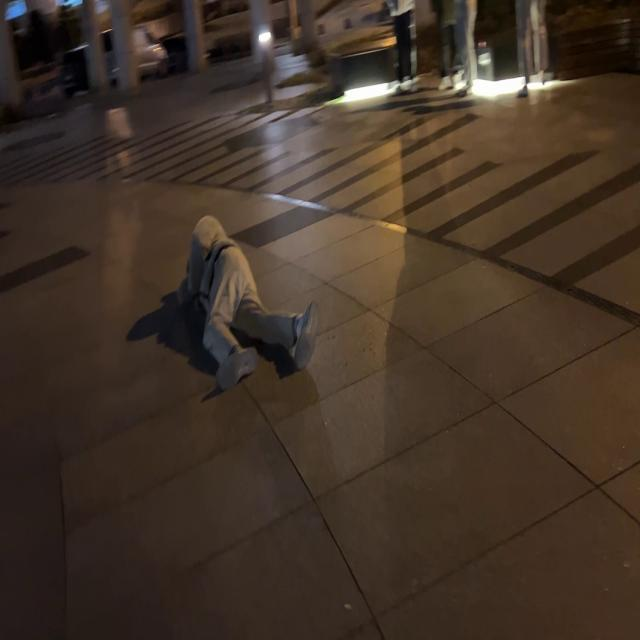Fall: (178, 216, 317, 390)
